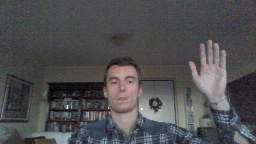Mano_aperta: (186, 38, 228, 102)
